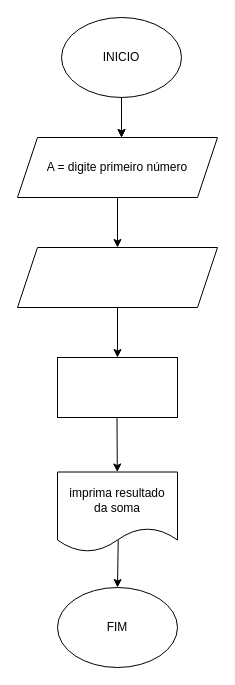
The diagram is 235 pixels wide and 685 high, and some of its shapes have lost their labels. The shapes that lost their labels are listed below. From the top down, each one's centre as x and y in pixels, then its label:
At point 117,277: "B = digite primeiro número".
At point 117,387: "SOMA = A + B".
